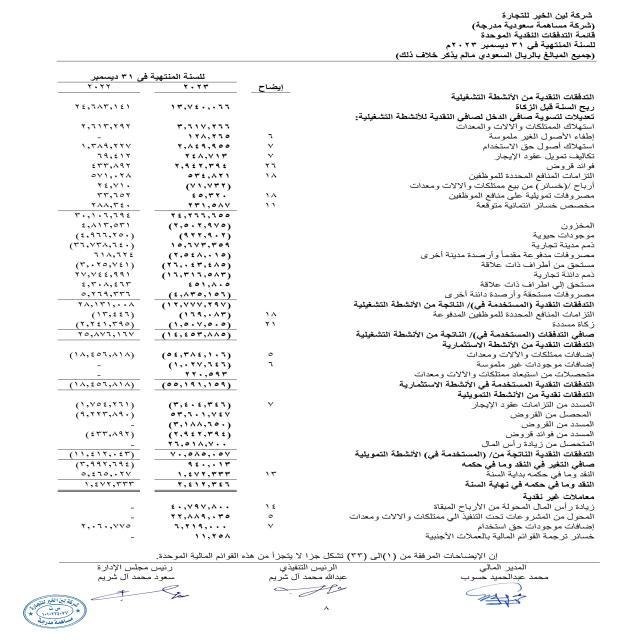financial_sheets: (478, 32, 606, 42)
table: (25, 61, 311, 552)
